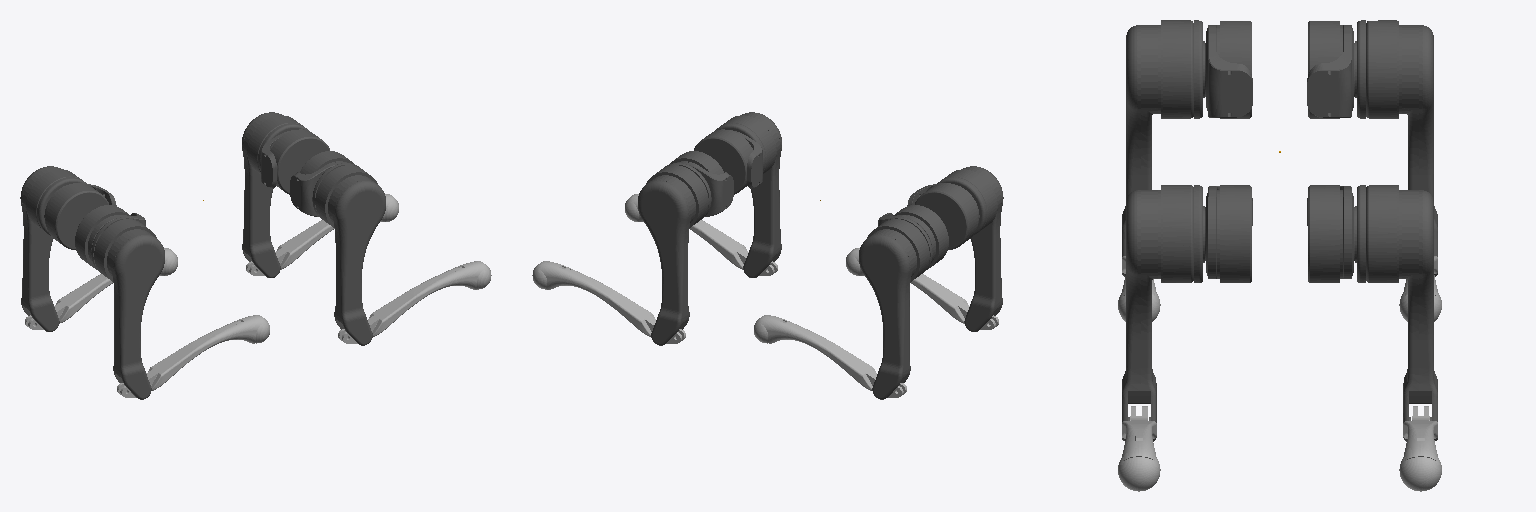
--- What the picture shows (computed from the rendered views, not written in the file) ---
The picture shows the robot from 3 angles, left to right: view 1: azimuth 30°, elevation 25°; view 2: azimuth 150°, elevation 25°; view 3: azimuth 270°, elevation 25°; orthographic projection.
Model a1_description with 23 links and 22 joints (12 revolute, 10 fixed), rooted at base, posed joints at zero except 4 at the middle of their limits (FR_calf_joint = -1.81, FL_calf_joint = -1.81, RR_calf_joint = -1.81, RL_calf_joint = -1.81).
Links seen in each view (by area): view 1: RR_thigh, FR_thigh, RL_thigh, FL_thigh, FR_calf, RR_calf, FL_hip, RL_hip, FR_hip, FL_calf, RL_calf, RR_hip; view 2: RL_thigh, FL_thigh, RR_thigh, FR_thigh, FL_calf, RL_calf, FR_hip, RR_hip, FL_hip, FR_calf, RR_calf, RL_hip; view 3: FR_thigh, FL_thigh, RR_thigh, RL_thigh, FR_hip, FL_hip, RR_hip, RL_hip, FR_calf, FL_calf, RL_calf, RR_calf.
Link boxes in pixels (left/top/right/bottom): RR_thigh: left=91, top=217, right=164, bottom=399; FR_thigh: left=312, top=163, right=385, bottom=345; RL_thigh: left=20, top=166, right=86, bottom=331; FL_thigh: left=242, top=112, right=308, bottom=277; FR_calf: left=338, top=261, right=491, bottom=343; RR_calf: left=117, top=315, right=269, bottom=397; FL_hip: left=261, top=129, right=329, bottom=194; RL_hip: left=44, top=183, right=116, bottom=249; FR_hip: left=290, top=151, right=353, bottom=216; FL_calf: left=246, top=194, right=398, bottom=275; RL_calf: left=25, top=248, right=177, bottom=329; RR_hip: left=75, top=205, right=145, bottom=269; RL_thigh: left=859, top=217, right=932, bottom=399; FL_thigh: left=638, top=163, right=711, bottom=345; RR_thigh: left=937, top=166, right=1003, bottom=331; FR_thigh: left=715, top=112, right=781, bottom=277; FL_calf: left=532, top=261, right=685, bottom=343; RL_calf: left=754, top=315, right=906, bottom=397; FR_hip: left=694, top=129, right=762, bottom=194; RR_hip: left=907, top=183, right=979, bottom=249; FL_hip: left=670, top=151, right=733, bottom=216; FR_calf: left=625, top=194, right=777, bottom=275; RR_calf: left=846, top=248, right=998, bottom=329; RL_hip: left=878, top=205, right=948, bottom=269; FR_thigh: left=1122, top=185, right=1204, bottom=441; FL_thigh: left=1355, top=185, right=1437, bottom=441; RR_thigh: left=1122, top=20, right=1204, bottom=276; RL_thigh: left=1355, top=20, right=1437, bottom=276; FR_hip: left=1205, top=185, right=1252, bottom=282; FL_hip: left=1307, top=185, right=1354, bottom=282; RR_hip: left=1205, top=21, right=1252, bottom=118; RL_hip: left=1307, top=21, right=1354, bottom=118; FR_calf: left=1118, top=406, right=1160, bottom=491; FL_calf: left=1399, top=406, right=1441, bottom=491; RL_calf: left=1399, top=256, right=1441, bottom=321; RR_calf: left=1118, top=256, right=1160, bottom=321.
Size in the robot's own frame: 0.6265 by 0.3041 by 0.2595 metres.
Meshes: 5 distinct files referenced, 12 mesh visuals loaded (4 OBJ); not drawn: 1 (reference not matched to a file when rendering).

The robot description file, URDF, robot "a1_description":
<?xml version="1.0" ?>
<!-- =================================================================================== -->
<!-- |    This document was autogenerated by xacro from robot.xacro                    | -->
<!-- |    EDITING THIS FILE BY HAND IS NOT RECOMMENDED                                 | -->
<!-- =================================================================================== -->
<robot name="a1_description" xmlns:xacro="http://www.ros.org/wiki/xacro">
  <material name="trunk_color">
    <color rgba="0.0 0.0 0.0 1.0"/>
  </material>
  <material name="hip_color">
    <color rgba="0.4 0.4 0.4 1.0"/>
  </material>
  <material name="thigh_color">
    <color rgba="0.4 0.4 0.4 1.0"/>
  </material>
  <material name="calf_color">
    <color rgba="0.7 0.7 0.7 1.0"/>
  </material>
  <material name="foot_color">
    <color rgba="0.7 0.7 0.7 1.0"/>
  </material>
  <material name="black">
    <color rgba="0.0 0.0 0.0 1.0"/>
  </material>
  <material name="blue">
    <color rgba="0.0 0.0 0.8 1.0"/>
  </material>
  <material name="green">
    <color rgba="0.0 0.8 0.0 1.0"/>
  </material>
  <material name="grey">
    <color rgba="0.2 0.2 0.2 1.0"/>
  </material>
  <material name="silver">
    <color rgba="0.913725490196 0.913725490196 0.847058823529 1.0"/>
  </material>
  <material name="orange">
    <color rgba="1.0 0.423529411765 0.0392156862745 1.0"/>
  </material>
  <material name="brown">
    <color rgba="0.870588235294 0.811764705882 0.764705882353 1.0"/>
  </material>
  <material name="red">
    <color rgba="0.8 0.0 0.0 1.0"/>
  </material>
  <material name="white">
    <color rgba="1.0 1.0 1.0 1.0"/>
  </material>
  <link name="base">
    <visual>
      <origin rpy="0 0 0" xyz="0 0 0"/>
      <geometry>
        <box size="0.001 0.001 0.001"/>
      </geometry>
    </visual>
  </link>
  <joint name="floating_base" type="fixed">
    <origin rpy="0 0 0" xyz="0 0 0"/>
    <parent link="base"/>
    <child link="trunk"/>
  </joint>
  <link name="trunk">
    <visual>
      <origin rpy="0 0 0" xyz="0 0 0"/>
      <geometry>
        <mesh filename="package://mesh/trunk.obj" scale="1 1 1"/>
      </geometry>
      <material name="trunk_color"/>
    </visual>
    <collision>
      <origin rpy="0 0 0" xyz="0 0 0"/>
      <geometry>
        <box size="0.267 0.194 0.114"/>
      </geometry>
    </collision>
    <inertial>
      <origin rpy="0 0 0" xyz="0.012731 0.002186 0.000515"/>
      <mass value="4.713"/>
      <inertia ixx="0.01683993" ixy="8.3902e-05" ixz="0.000597679" iyy="0.056579028" iyz="2.5134e-05" izz="0.064713601"/>
    </inertial>
  </link>
  <joint name="imu_joint" type="fixed">
    <parent link="trunk"/>
    <child link="imu_link"/>
    <origin rpy="0 0 0" xyz="0 0 0"/>
  </joint>
  <link name="imu_link">
    <inertial>
      <mass value="0.001"/>
      <origin rpy="0 0 0" xyz="0 0 0"/>
      <inertia ixx="0.0001" ixy="0" ixz="0" iyy="0.0001" iyz="0" izz="0.0001"/>
    </inertial>
    <visual>
      <origin rpy="0 0 0" xyz="0 0 0"/>
      <geometry>
        <box size="0.001 0.001 0.001"/>
      </geometry>
      <material name="red"/>
    </visual>
    <collision>
      <origin rpy="0 0 0" xyz="0 0 0"/>
      <geometry>
        <box size=".001 .001 .001"/>
      </geometry>
    </collision>
  </link>
  <joint name="FR_hip_joint" type="revolute">
    <origin rpy="0 0 0" xyz="0.183 -0.047 0"/>
    <parent link="trunk"/>
    <child link="FR_hip"/>
    <axis xyz="1 0 0"/>
    <dynamics damping="0" friction="0"/>
    <limit effort="20" lower="-0.802851455917" upper="0.802851455917" velocity="52.4"/>
  </joint>
  <link name="FR_hip">
    <visual>
      <origin rpy="3.14159265359 0 0" xyz="0 0 0"/>
      <geometry>
        <mesh filename="package://mesh/hip.obj" scale="1 1 1"/>
      </geometry>
      <material name="hip_color"/>
    </visual>
    <collision>
      <origin rpy="1.57079632679 0 0" xyz="0 0 0"/>
      <geometry>
        <cylinder length="0.04" radius="0.046"/>
      </geometry>
    </collision>
    <inertial>
      <origin rpy="0 0 0" xyz="-0.003311 -0.000635 3.1e-05"/>
      <mass value="0.696"/>
      <inertia ixx="0.000469246" ixy="9.409e-06" ixz="-3.42e-07" iyy="0.00080749" iyz="4.66e-07" izz="0.000552929"/>
    </inertial>
  </link>
  <joint name="FR_hip_fixed" type="fixed">
    <origin rpy="0 0 0" xyz="0 -0.081 0"/>
    <parent link="FR_hip"/>
    <child link="FR_thigh_shoulder"/>
  </joint>
  <!-- this link is only for collision -->
  <link name="FR_thigh_shoulder">
    <collision>
      <origin rpy="1.57079632679 0 0" xyz="0 0 0"/>
      <geometry>
        <cylinder length="0.032" radius="0.041"/>
      </geometry>
    </collision>
  </link>
  <joint name="FR_thigh_joint" type="revolute">
    <origin rpy="0 0 0" xyz="0 -0.08505 0"/>
    <parent link="FR_hip"/>
    <child link="FR_thigh"/>
    <axis xyz="0 1 0"/>
    <dynamics damping="0" friction="0"/>
    <limit effort="55" lower="-1.0471975512" upper="4.18879020479" velocity="28.6"/>
  </joint>
  <link name="FR_thigh">
    <visual>
      <origin rpy="0 0 0" xyz="0 0 0"/>
      <geometry>
        <mesh filename="package://mesh/thigh_mirror.obj" scale="1 1 1"/>
      </geometry>
      <material name="thigh_color"/>
    </visual>
    <collision>
      <origin rpy="0 1.57079632679 0" xyz="0 0 -0.1"/>
      <geometry>
        <box size="0.2 0.0245 0.034"/>
      </geometry>
    </collision>
    <inertial>
      <origin rpy="0 0 0" xyz="-0.003237 0.022327 -0.027326"/>
      <mass value="1.013"/>
      <inertia ixx="0.005529065" ixy="-4.825e-06" ixz="0.000343869" iyy="0.005139339" iyz="-2.2448e-05" izz="0.001367788"/>
    </inertial>
  </link>
  <joint name="FR_calf_joint" type="revolute">
    <origin rpy="0 0 0" xyz="0 0 -0.2"/>
    <parent link="FR_thigh"/>
    <child link="FR_calf"/>
    <axis xyz="0 1 0"/>
    <dynamics damping="0" friction="0"/>
    <limit effort="55" lower="-2.69653369433" upper="-0.916297857297" velocity="28.6"/>
  </joint>
  <link name="FR_calf">
    <visual>
      <origin rpy="0 0 0" xyz="0 0 0"/>
      <geometry>
        <mesh filename="package://mesh/calf.obj" scale="1 1 1"/>
      </geometry>
      <material name="calf_color"/>
    </visual>
    <collision>
      <origin rpy="0 1.57079632679 0" xyz="0 0 -0.1"/>
      <geometry>
        <box size="0.2 0.016 0.016"/>
      </geometry>
    </collision>
    <inertial>
      <origin rpy="0 0 0" xyz="0.006435 0.0 -0.107388"/>
      <mass value="0.166"/>
      <inertia ixx="0.002997972" ixy="0.0" ixz="-0.000141163" iyy="0.003014022" iyz="0.0" izz="3.2426e-05"/>
    </inertial>
  </link>
  <joint name="FR_foot_fixed" type="fixed">
    <origin rpy="0 0 0" xyz="0 0 -0.2"/>
    <parent link="FR_calf"/>
    <child link="FR_foot"/>
  </joint>
  <link name="FR_foot">
    <visual>
      <origin rpy="0 0 0" xyz="0 0 0"/>
      <geometry>
        <sphere radius="0.01"/>
      </geometry>
      <material name="foot_color"/>
    </visual>
    <collision>
      <origin rpy="0 0 0" xyz="0 0 0"/>
      <geometry>
        <sphere radius="0.02"/>
      </geometry>
    </collision>
    <inertial>
      <mass value="0.06"/>
      <inertia ixx="9.6e-06" ixy="0.0" ixz="0.0" iyy="9.6e-06" iyz="0.0" izz="9.6e-06"/>
    </inertial>
  </link>
  <transmission name="FR_hip_tran">
    <type>transmission_interface/SimpleTransmission</type>
    <joint name="FR_hip_joint">
      <hardwareInterface>hardware_interface/EffortJointInterface</hardwareInterface>
    </joint>
    <actuator name="FR_hip_motor">
      <hardwareInterface>hardware_interface/EffortJointInterface</hardwareInterface>
      <mechanicalReduction>1</mechanicalReduction>
    </actuator>
  </transmission>
  <transmission name="FR_thigh_tran">
    <type>transmission_interface/SimpleTransmission</type>
    <joint name="FR_thigh_joint">
      <hardwareInterface>hardware_interface/EffortJointInterface</hardwareInterface>
    </joint>
    <actuator name="FR_thigh_motor">
      <hardwareInterface>hardware_interface/EffortJointInterface</hardwareInterface>
      <mechanicalReduction>1</mechanicalReduction>
    </actuator>
  </transmission>
  <transmission name="FR_calf_tran">
    <type>transmission_interface/SimpleTransmission</type>
    <joint name="FR_calf_joint">
      <hardwareInterface>hardware_interface/EffortJointInterface</hardwareInterface>
    </joint>
    <actuator name="FR_calf_motor">
      <hardwareInterface>hardware_interface/EffortJointInterface</hardwareInterface>
      <mechanicalReduction>1</mechanicalReduction>
    </actuator>
  </transmission>
  <joint name="FL_hip_joint" type="revolute">
    <origin rpy="0 0 0" xyz="0.183 0.047 0"/>
    <parent link="trunk"/>
    <child link="FL_hip"/>
    <axis xyz="1 0 0"/>
    <dynamics damping="0" friction="0"/>
    <limit effort="20" lower="-0.802851455917" upper="0.802851455917" velocity="52.4"/>
  </joint>
  <link name="FL_hip">
    <visual>
      <origin rpy="0 0 0" xyz="0 0 0"/>
      <geometry>
        <mesh filename="package://mesh/hip.obj" scale="1 1 1"/>
      </geometry>
      <material name="hip_color"/>
    </visual>
    <collision>
      <origin rpy="1.57079632679 0 0" xyz="0 0 0"/>
      <geometry>
        <cylinder length="0.04" radius="0.046"/>
      </geometry>
    </collision>
    <inertial>
      <origin rpy="0 0 0" xyz="-0.003311 0.000635 3.1e-05"/>
      <mass value="0.696"/>
      <inertia ixx="0.000469246" ixy="-9.409e-06" ixz="-3.42e-07" iyy="0.00080749" iyz="-4.66e-07" izz="0.000552929"/>
    </inertial>
  </link>
  <joint name="FL_hip_fixed" type="fixed">
    <origin rpy="0 0 0" xyz="0 0.081 0"/>
    <parent link="FL_hip"/>
    <child link="FL_thigh_shoulder"/>
  </joint>
  <!-- this link is only for collision -->
  <link name="FL_thigh_shoulder">
    <collision>
      <origin rpy="1.57079632679 0 0" xyz="0 0 0"/>
      <geometry>
        <cylinder length="0.032" radius="0.041"/>
      </geometry>
    </collision>
  </link>
  <joint name="FL_thigh_joint" type="revolute">
    <origin rpy="0 0 0" xyz="0 0.08505 0"/>
    <parent link="FL_hip"/>
    <child link="FL_thigh"/>
    <axis xyz="0 1 0"/>
    <dynamics damping="0" friction="0"/>
    <limit effort="55" lower="-1.0471975512" upper="4.18879020479" velocity="28.6"/>
  </joint>
  <link name="FL_thigh">
    <visual>
      <origin rpy="0 0 0" xyz="0 0 0"/>
      <geometry>
        <mesh filename="package://mesh/thigh.obj" scale="1 1 1"/>
      </geometry>
      <material name="thigh_color"/>
    </visual>
    <collision>
      <origin rpy="0 1.57079632679 0" xyz="0 0 -0.1"/>
      <geometry>
        <box size="0.2 0.0245 0.034"/>
      </geometry>
    </collision>
    <inertial>
      <origin rpy="0 0 0" xyz="-0.003237 -0.022327 -0.027326"/>
      <mass value="1.013"/>
      <inertia ixx="0.005529065" ixy="4.825e-06" ixz="0.000343869" iyy="0.005139339" iyz="2.2448e-05" izz="0.001367788"/>
    </inertial>
  </link>
  <joint name="FL_calf_joint" type="revolute">
    <origin rpy="0 0 0" xyz="0 0 -0.2"/>
    <parent link="FL_thigh"/>
    <child link="FL_calf"/>
    <axis xyz="0 1 0"/>
    <dynamics damping="0" friction="0"/>
    <limit effort="55" lower="-2.69653369433" upper="-0.916297857297" velocity="28.6"/>
  </joint>
  <link name="FL_calf">
    <visual>
      <origin rpy="0 0 0" xyz="0 0 0"/>
      <geometry>
        <mesh filename="package://mesh/calf.obj" scale="1 1 1"/>
      </geometry>
      <material name="calf_color"/>
    </visual>
    <collision>
      <origin rpy="0 1.57079632679 0" xyz="0 0 -0.1"/>
      <geometry>
        <box size="0.2 0.016 0.016"/>
      </geometry>
    </collision>
    <inertial>
      <origin rpy="0 0 0" xyz="0.006435 0.0 -0.107388"/>
      <mass value="0.166"/>
      <inertia ixx="0.002997972" ixy="0.0" ixz="-0.000141163" iyy="0.003014022" iyz="0.0" izz="3.2426e-05"/>
    </inertial>
  </link>
  <joint name="FL_foot_fixed" type="fixed">
    <origin rpy="0 0 0" xyz="0 0 -0.2"/>
    <parent link="FL_calf"/>
    <child link="FL_foot"/>
  </joint>
  <link name="FL_foot">
    <visual>
      <origin rpy="0 0 0" xyz="0 0 0"/>
      <geometry>
        <sphere radius="0.01"/>
      </geometry>
      <material name="foot_color"/>
    </visual>
    <collision>
      <origin rpy="0 0 0" xyz="0 0 0"/>
      <geometry>
        <sphere radius="0.02"/>
      </geometry>
    </collision>
    <inertial>
      <mass value="0.06"/>
      <inertia ixx="9.6e-06" ixy="0.0" ixz="0.0" iyy="9.6e-06" iyz="0.0" izz="9.6e-06"/>
    </inertial>
  </link>
  <transmission name="FL_hip_tran">
    <type>transmission_interface/SimpleTransmission</type>
    <joint name="FL_hip_joint">
      <hardwareInterface>hardware_interface/EffortJointInterface</hardwareInterface>
    </joint>
    <actuator name="FL_hip_motor">
      <hardwareInterface>hardware_interface/EffortJointInterface</hardwareInterface>
      <mechanicalReduction>1</mechanicalReduction>
    </actuator>
  </transmission>
  <transmission name="FL_thigh_tran">
    <type>transmission_interface/SimpleTransmission</type>
    <joint name="FL_thigh_joint">
      <hardwareInterface>hardware_interface/EffortJointInterface</hardwareInterface>
    </joint>
    <actuator name="FL_thigh_motor">
      <hardwareInterface>hardware_interface/EffortJointInterface</hardwareInterface>
      <mechanicalReduction>1</mechanicalReduction>
    </actuator>
  </transmission>
  <transmission name="FL_calf_tran">
    <type>transmission_interface/SimpleTransmission</type>
    <joint name="FL_calf_joint">
      <hardwareInterface>hardware_interface/EffortJointInterface</hardwareInterface>
    </joint>
    <actuator name="FL_calf_motor">
      <hardwareInterface>hardware_interface/EffortJointInterface</hardwareInterface>
      <mechanicalReduction>1</mechanicalReduction>
    </actuator>
  </transmission>
  <joint name="RR_hip_joint" type="revolute">
    <origin rpy="0 0 0" xyz="-0.183 -0.047 0"/>
    <parent link="trunk"/>
    <child link="RR_hip"/>
    <axis xyz="1 0 0"/>
    <dynamics damping="0" friction="0"/>
    <limit effort="20" lower="-0.802851455917" upper="0.802851455917" velocity="52.4"/>
  </joint>
  <link name="RR_hip">
    <visual>
      <origin rpy="3.14159265359 3.14159265359 0" xyz="0 0 0"/>
      <geometry>
        <mesh filename="package://mesh/hip.obj" scale="1 1 1"/>
      </geometry>
      <material name="hip_color"/>
    </visual>
    <collision>
      <origin rpy="1.57079632679 0 0" xyz="0 0 0"/>
      <geometry>
        <cylinder length="0.04" radius="0.046"/>
      </geometry>
    </collision>
    <inertial>
      <origin rpy="0 0 0" xyz="0.003311 -0.000635 3.1e-05"/>
      <mass value="0.696"/>
      <inertia ixx="0.000469246" ixy="-9.409e-06" ixz="3.42e-07" iyy="0.00080749" iyz="4.66e-07" izz="0.000552929"/>
    </inertial>
  </link>
  <joint name="RR_hip_fixed" type="fixed">
    <origin rpy="0 0 0" xyz="0 -0.081 0"/>
    <parent link="RR_hip"/>
    <child link="RR_thigh_shoulder"/>
  </joint>
  <!-- this link is only for collision -->
  <link name="RR_thigh_shoulder">
    <collision>
      <origin rpy="1.57079632679 0 0" xyz="0 0 0"/>
      <geometry>
        <cylinder length="0.032" radius="0.041"/>
      </geometry>
    </collision>
  </link>
  <joint name="RR_thigh_joint" type="revolute">
    <origin rpy="0 0 0" xyz="0 -0.08505 0"/>
    <parent link="RR_hip"/>
    <child link="RR_thigh"/>
    <axis xyz="0 1 0"/>
    <dynamics damping="0" friction="0"/>
    <limit effort="55" lower="-1.0471975512" upper="4.18879020479" velocity="28.6"/>
  </joint>
  <link name="RR_thigh">
    <visual>
      <origin rpy="0 0 0" xyz="0 0 0"/>
      <geometry>
        <mesh filename="package://mesh/thigh_mirror.obj" scale="1 1 1"/>
      </geometry>
      <material name="thigh_color"/>
    </visual>
    <collision>
      <origin rpy="0 1.57079632679 0" xyz="0 0 -0.1"/>
      <geometry>
        <box size="0.2 0.0245 0.034"/>
      </geometry>
    </collision>
    <inertial>
      <origin rpy="0 0 0" xyz="-0.003237 0.022327 -0.027326"/>
      <mass value="1.013"/>
      <inertia ixx="0.005529065" ixy="-4.825e-06" ixz="0.000343869" iyy="0.005139339" iyz="-2.2448e-05" izz="0.001367788"/>
    </inertial>
  </link>
  <joint name="RR_calf_joint" type="revolute">
    <origin rpy="0 0 0" xyz="0 0 -0.2"/>
    <parent link="RR_thigh"/>
    <child link="RR_calf"/>
    <axis xyz="0 1 0"/>
    <dynamics damping="0" friction="0"/>
    <limit effort="55" lower="-2.69653369433" upper="-0.916297857297" velocity="28.6"/>
  </joint>
  <link name="RR_calf">
    <visual>
      <origin rpy="0 0 0" xyz="0 0 0"/>
      <geometry>
        <mesh filename="package://mesh/calf.obj" scale="1 1 1"/>
      </geometry>
      <material name="calf_color"/>
    </visual>
    <collision>
      <origin rpy="0 1.57079632679 0" xyz="0 0 -0.1"/>
      <geometry>
        <box size="0.2 0.016 0.016"/>
      </geometry>
    </collision>
    <inertial>
      <origin rpy="0 0 0" xyz="0.006435 0.0 -0.107388"/>
      <mass value="0.166"/>
      <inertia ixx="0.002997972" ixy="0.0" ixz="-0.000141163" iyy="0.003014022" iyz="0.0" izz="3.2426e-05"/>
    </inertial>
  </link>
  <joint name="RR_foot_fixed" type="fixed">
    <origin rpy="0 0 0" xyz="0 0 -0.2"/>
    <parent link="RR_calf"/>
    <child link="RR_foot"/>
  </joint>
  <link name="RR_foot">
    <visual>
      <origin rpy="0 0 0" xyz="0 0 0"/>
      <geometry>
        <sphere radius="0.01"/>
      </geometry>
      <material name="foot_color"/>
    </visual>
    <collision>
      <origin rpy="0 0 0" xyz="0 0 0"/>
      <geometry>
        <sphere radius="0.02"/>
      </geometry>
    </collision>
    <inertial>
      <mass value="0.06"/>
      <inertia ixx="9.6e-06" ixy="0.0" ixz="0.0" iyy="9.6e-06" iyz="0.0" izz="9.6e-06"/>
    </inertial>
  </link>
  <transmission name="RR_hip_tran">
    <type>transmission_interface/SimpleTransmission</type>
    <joint name="RR_hip_joint">
      <hardwareInterface>hardware_interface/EffortJointInterface</hardwareInterface>
    </joint>
    <actuator name="RR_hip_motor">
      <hardwareInterface>hardware_interface/EffortJointInterface</hardwareInterface>
      <mechanicalReduction>1</mechanicalReduction>
    </actuator>
  </transmission>
  <transmission name="RR_thigh_tran">
    <type>transmission_interface/SimpleTransmission</type>
    <joint name="RR_thigh_joint">
      <hardwareInterface>hardware_interface/EffortJointInterface</hardwareInterface>
    </joint>
    <actuator name="RR_thigh_motor">
      <hardwareInterface>hardware_interface/EffortJointInterface</hardwareInterface>
      <mechanicalReduction>1</mechanicalReduction>
    </actuator>
  </transmission>
  <transmission name="RR_calf_tran">
    <type>transmission_interface/SimpleTransmission</type>
    <joint name="RR_calf_joint">
      <hardwareInterface>hardware_interface/EffortJointInterface</hardwareInterface>
    </joint>
    <actuator name="RR_calf_motor">
      <hardwareInterface>hardware_interface/EffortJointInterface</hardwareInterface>
      <mechanicalReduction>1</mechanicalReduction>
    </actuator>
  </transmission>
  <joint name="RL_hip_joint" type="revolute">
    <origin rpy="0 0 0" xyz="-0.183 0.047 0"/>
    <parent link="trunk"/>
    <child link="RL_hip"/>
    <axis xyz="1 0 0"/>
    <dynamics damping="0" friction="0"/>
    <limit effort="20" lower="-0.802851455917" upper="0.802851455917" velocity="52.4"/>
  </joint>
  <link name="RL_hip">
    <visual>
      <origin rpy="0 3.14159265359 0" xyz="0 0 0"/>
      <geometry>
        <mesh filename="package://mesh/hip.obj" scale="1 1 1"/>
      </geometry>
      <material name="hip_color"/>
    </visual>
    <collision>
      <origin rpy="1.57079632679 0 0" xyz="0 0 0"/>
      <geometry>
        <cylinder length="0.04" radius="0.046"/>
      </geometry>
    </collision>
    <inertial>
      <origin rpy="0 0 0" xyz="0.003311 0.000635 3.1e-05"/>
      <mass value="0.696"/>
      <inertia ixx="0.000469246" ixy="9.409e-06" ixz="3.42e-07" iyy="0.00080749" iyz="-4.66e-07" izz="0.000552929"/>
    </inertial>
  </link>
  <joint name="RL_hip_fixed" type="fixed">
    <origin rpy="0 0 0" xyz="0 0.081 0"/>
    <parent link="RL_hip"/>
    <child link="RL_thigh_shoulder"/>
  </joint>
  <!-- this link is only for collision -->
  <link name="RL_thigh_shoulder">
    <collision>
      <origin rpy="1.57079632679 0 0" xyz="0 0 0"/>
      <geometry>
        <cylinder length="0.032" radius="0.041"/>
      </geometry>
    </collision>
  </link>
  <joint name="RL_thigh_joint" type="revolute">
    <origin rpy="0 0 0" xyz="0 0.08505 0"/>
    <parent link="RL_hip"/>
    <child link="RL_thigh"/>
    <axis xyz="0 1 0"/>
    <dynamics damping="0" friction="0"/>
    <limit effort="55" lower="-1.0471975512" upper="4.18879020479" velocity="28.6"/>
  </joint>
  <link name="RL_thigh">
    <visual>
      <origin rpy="0 0 0" xyz="0 0 0"/>
      <geometry>
        <mesh filename="package://mesh/thigh.obj" scale="1 1 1"/>
      </geometry>
      <material name="thigh_color"/>
    </visual>
    <collision>
      <origin rpy="0 1.57079632679 0" xyz="0 0 -0.1"/>
      <geometry>
        <box size="0.2 0.0245 0.034"/>
      </geometry>
    </collision>
    <inertial>
      <origin rpy="0 0 0" xyz="-0.003237 -0.022327 -0.027326"/>
      <mass value="1.013"/>
      <inertia ixx="0.005529065" ixy="4.825e-06" ixz="0.000343869" iyy="0.005139339" iyz="2.2448e-05" izz="0.001367788"/>
    </inertial>
  </link>
  <joint name="RL_calf_joint" type="revolute">
    <origin rpy="0 0 0" xyz="0 0 -0.2"/>
    <parent link="RL_thigh"/>
    <child link="RL_calf"/>
    <axis xyz="0 1 0"/>
    <dynamics damping="0" friction="0"/>
    <limit effort="55" lower="-2.69653369433" upper="-0.916297857297" velocity="28.6"/>
  </joint>
  <link name="RL_calf">
    <visual>
      <origin rpy="0 0 0" xyz="0 0 0"/>
      <geometry>
        <mesh filename="package://mesh/calf.obj" scale="1 1 1"/>
      </geometry>
      <material name="calf_color"/>
    </visual>
    <collision>
      <origin rpy="0 1.57079632679 0" xyz="0 0 -0.1"/>
      <geometry>
        <box size="0.2 0.016 0.016"/>
      </geometry>
    </collision>
    <inertial>
      <origin rpy="0 0 0" xyz="0.006435 0.0 -0.107388"/>
      <mass value="0.166"/>
      <inertia ixx="0.002997972" ixy="0.0" ixz="-0.000141163" iyy="0.003014022" iyz="0.0" izz="3.2426e-05"/>
    </inertial>
  </link>
  <joint name="RL_foot_fixed" type="fixed">
    <origin rpy="0 0 0" xyz="0 0 -0.2"/>
    <parent link="RL_calf"/>
    <child link="RL_foot"/>
  </joint>
  <link name="RL_foot">
    <visual>
      <origin rpy="0 0 0" xyz="0 0 0"/>
      <geometry>
        <sphere radius="0.01"/>
      </geometry>
      <material name="foot_color"/>
    </visual>
    <collision>
      <origin rpy="0 0 0" xyz="0 0 0"/>
      <geometry>
        <sphere radius="0.02"/>
      </geometry>
    </collision>
    <inertial>
      <mass value="0.06"/>
      <inertia ixx="9.6e-06" ixy="0.0" ixz="0.0" iyy="9.6e-06" iyz="0.0" izz="9.6e-06"/>
    </inertial>
  </link>
  <transmission name="RL_hip_tran">
    <type>transmission_interface/SimpleTransmission</type>
    <joint name="RL_hip_joint">
      <hardwareInterface>hardware_interface/EffortJointInterface</hardwareInterface>
    </joint>
    <actuator name="RL_hip_motor">
      <hardwareInterface>hardware_interface/EffortJointInterface</hardwareInterface>
      <mechanicalReduction>1</mechanicalReduction>
    </actuator>
  </transmission>
  <transmission name="RL_thigh_tran">
    <type>transmission_interface/SimpleTransmission</type>
    <joint name="RL_thigh_joint">
      <hardwareInterface>hardware_interface/EffortJointInterface</hardwareInterface>
    </joint>
    <actuator name="RL_thigh_motor">
      <hardwareInterface>hardware_interface/EffortJointInterface</hardwareInterface>
      <mechanicalReduction>1</mechanicalReduction>
    </actuator>
  </transmission>
  <transmission name="RL_calf_tran">
    <type>transmission_interface/SimpleTransmission</type>
    <joint name="RL_calf_joint">
      <hardwareInterface>hardware_interface/EffortJointInterface</hardwareInterface>
    </joint>
    <actuator name="RL_calf_motor">
      <hardwareInterface>hardware_interface/EffortJointInterface</hardwareInterface>
      <mechanicalReduction>1</mechanicalReduction>
    </actuator>
  </transmission>
</robot>
